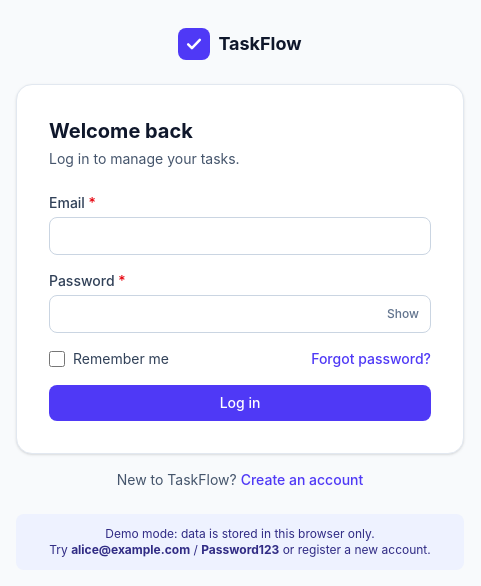
it: GitHub Pages demo › rejects a wrong password with one generic message
The width and height of the screenshot is (481, 586).
Type "alice@example.com" into the field labelled "Email *" at (240, 236), box [49,217,431,255]
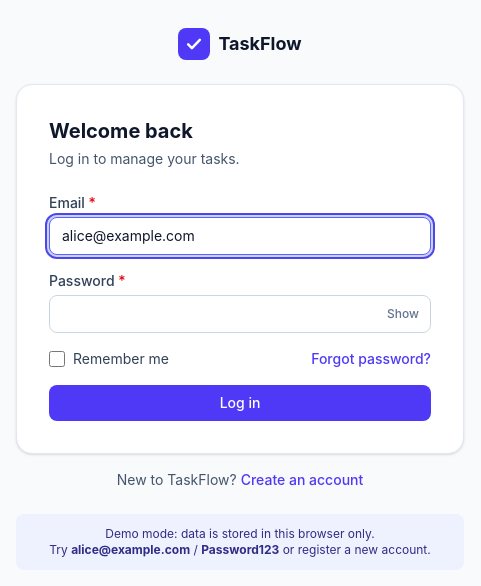
Type "Wrong12345" into the password field labelled "Password *" at (240, 314), box [49,295,431,333]
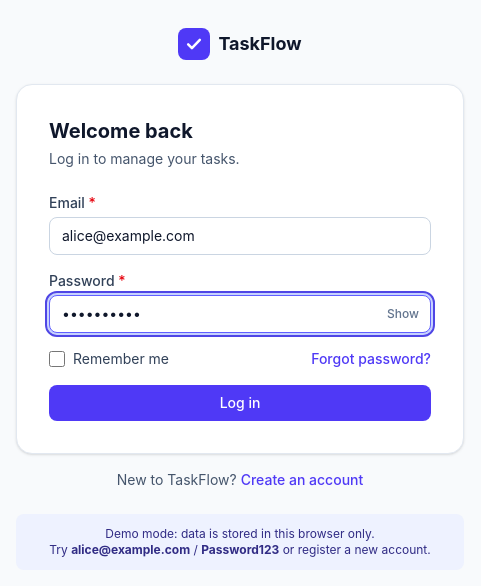
Click the button "Log in" at (240, 403), box [49,385,431,421]
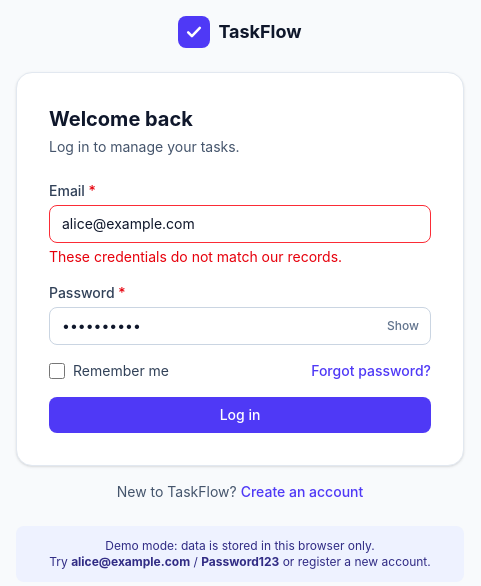
Expected: the text "These credentials do not match our records." is shown, [49,248,342,265]
